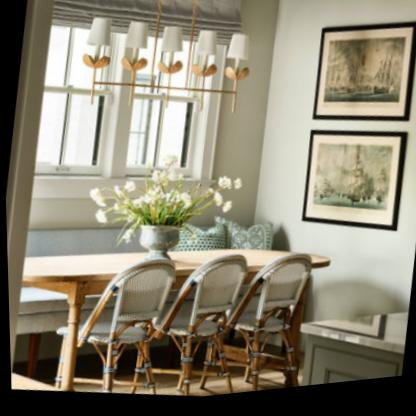Dining Table: (8, 211, 323, 410)
Frame: (301, 136, 407, 239), (313, 31, 416, 129)
